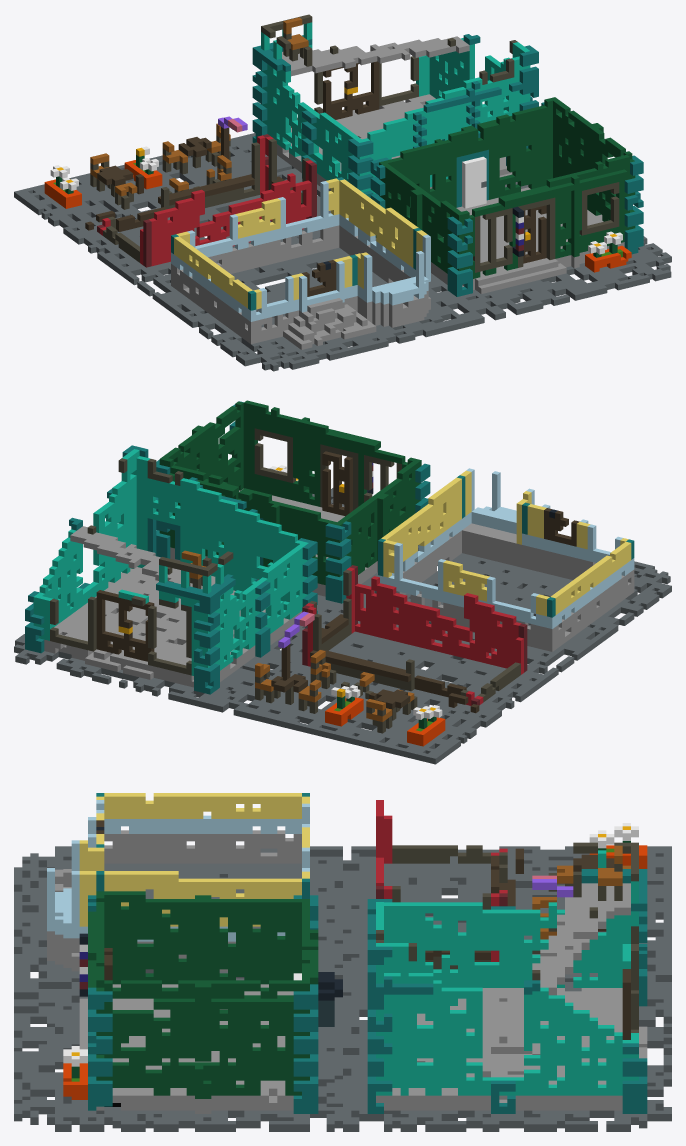
Rendered from building_small_9_destroyed.obj.
The picture shows the model from 3 angles, top to bottom: view 1: azimuth 30°, elevation 25°; view 2: azimuth 150°, elevation 25°; view 3: azimuth 270°, elevation 25°; orthographic projection. The views are drawn at different scales.
Size of the model in its own units: 8 by 2.3 by 8.
Materials: 1 (1 with a texture image).
